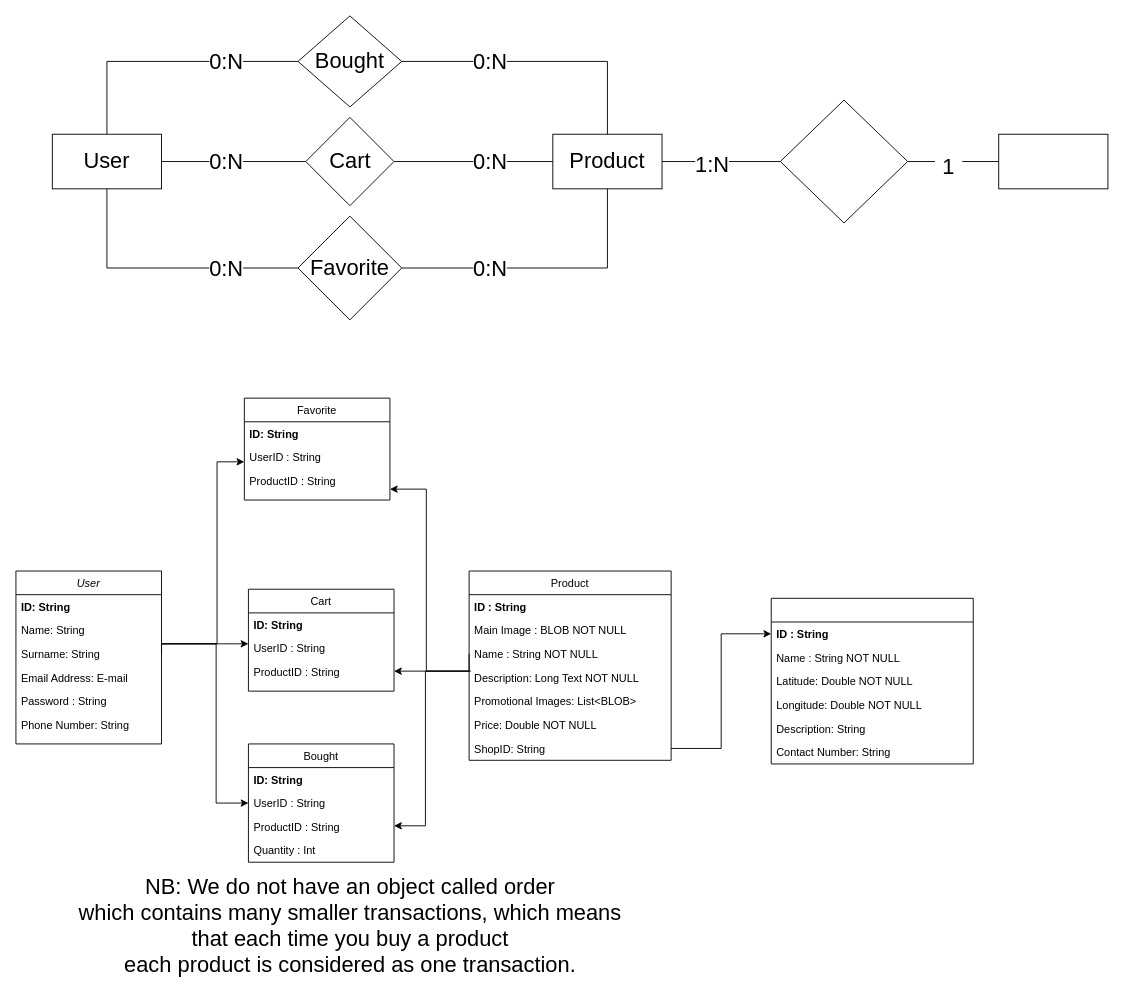
Some shapes in this 1124 by 996 pixel diagram are drawn without their labels. Here are the shapes that lost their labels. From the top down, the box of each, then its label:
(779, 99, 908, 223): Publishes
(998, 133, 1108, 189): Shops
(770, 597, 973, 764): Shop
